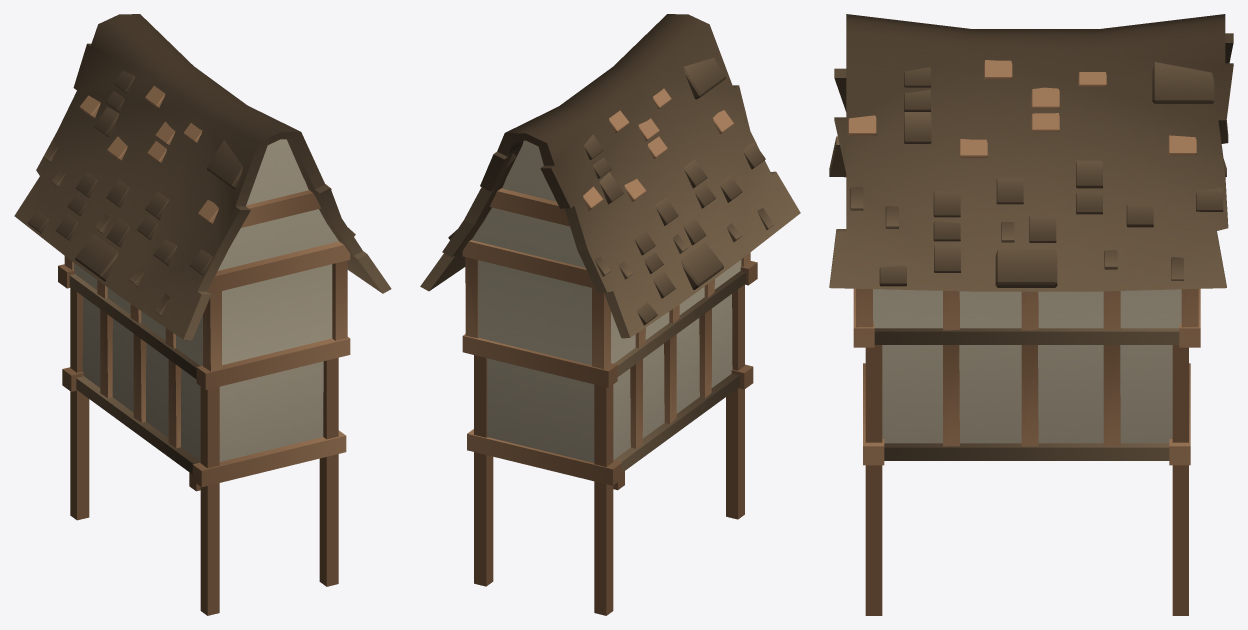
File: ZLP_Build_A_12.FBX
3 views of the same model, side by side, from view 1: azimuth 30°, elevation 25°; view 2: azimuth 150°, elevation 25°; view 3: azimuth 270°, elevation 25° (orthographic). The views are drawn at different scales.
Visible parts, largest first — view 1: ZLP_Build_A_12; view 2: ZLP_Build_A_12; view 3: ZLP_Build_A_12.
Part boxes in pixels (<box>): ZLP_Build_A_12: <box>14,14,391,615</box>; ZLP_Build_A_12: <box>420,14,800,615</box>; ZLP_Build_A_12: <box>829,14,1233,615</box>.
Bounding box in the file's own units: 325 × 683 × 449.
